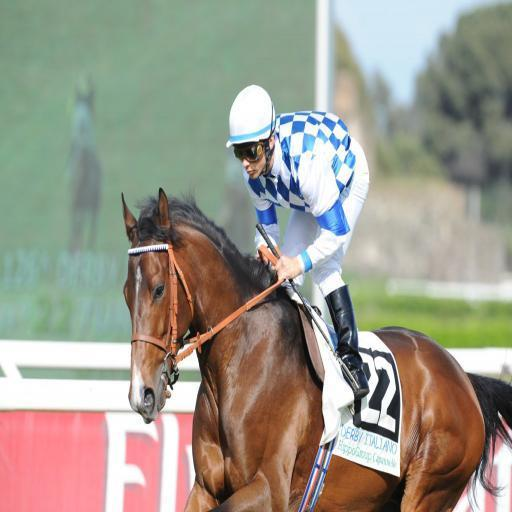horse: (122, 186, 512, 512)
